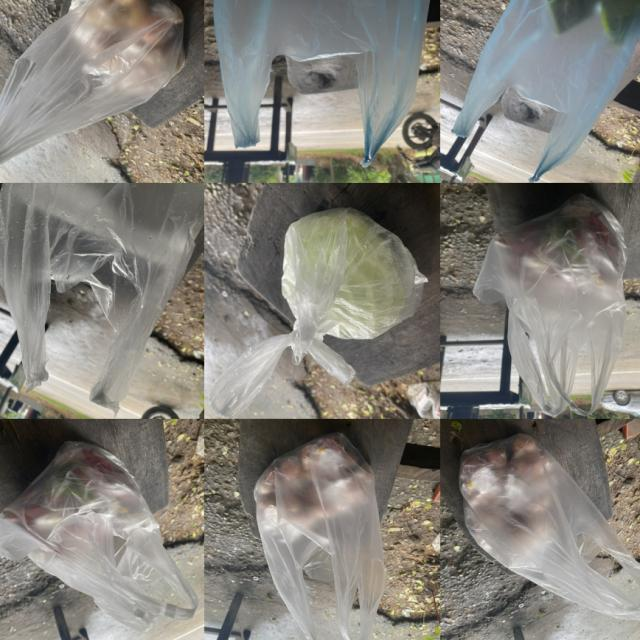plastik: (0, 183, 203, 413), (210, 208, 426, 417), (0, 442, 199, 630), (214, 0, 429, 163), (452, 0, 640, 182), (474, 194, 626, 417), (459, 434, 640, 621), (0, 0, 183, 165), (254, 433, 386, 640)
